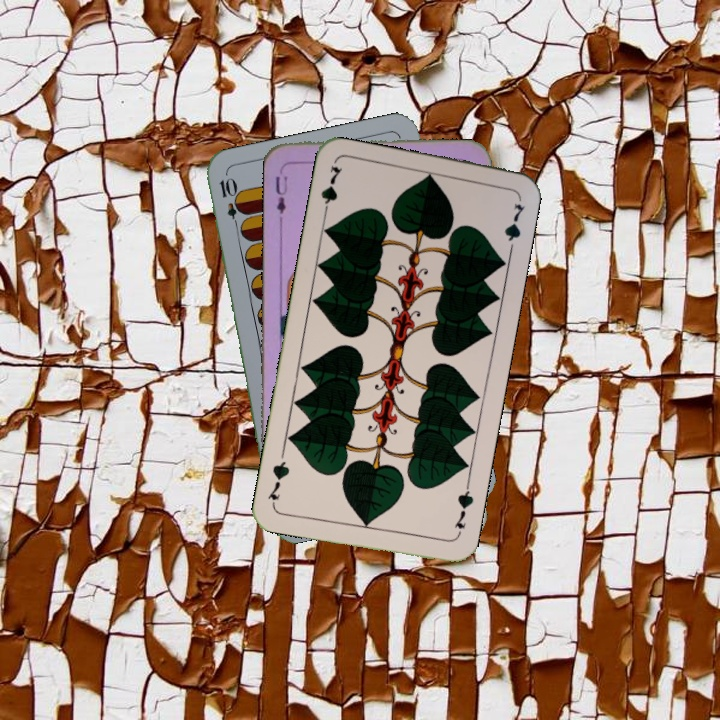E10: (215, 174, 244, 233)
EU: (271, 162, 290, 221)
G7: (317, 161, 345, 220), (450, 480, 476, 539)
